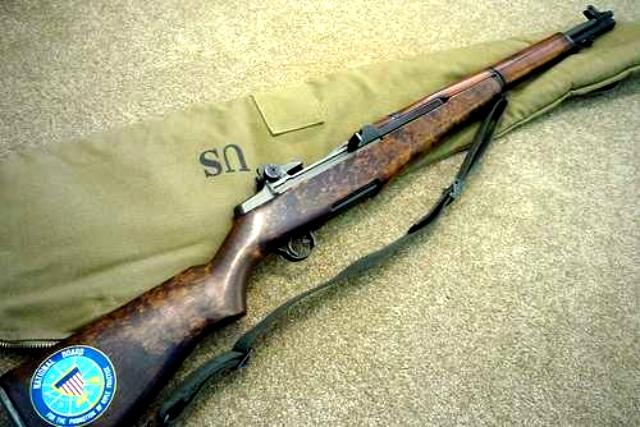rifle: (0, 10, 629, 427)
